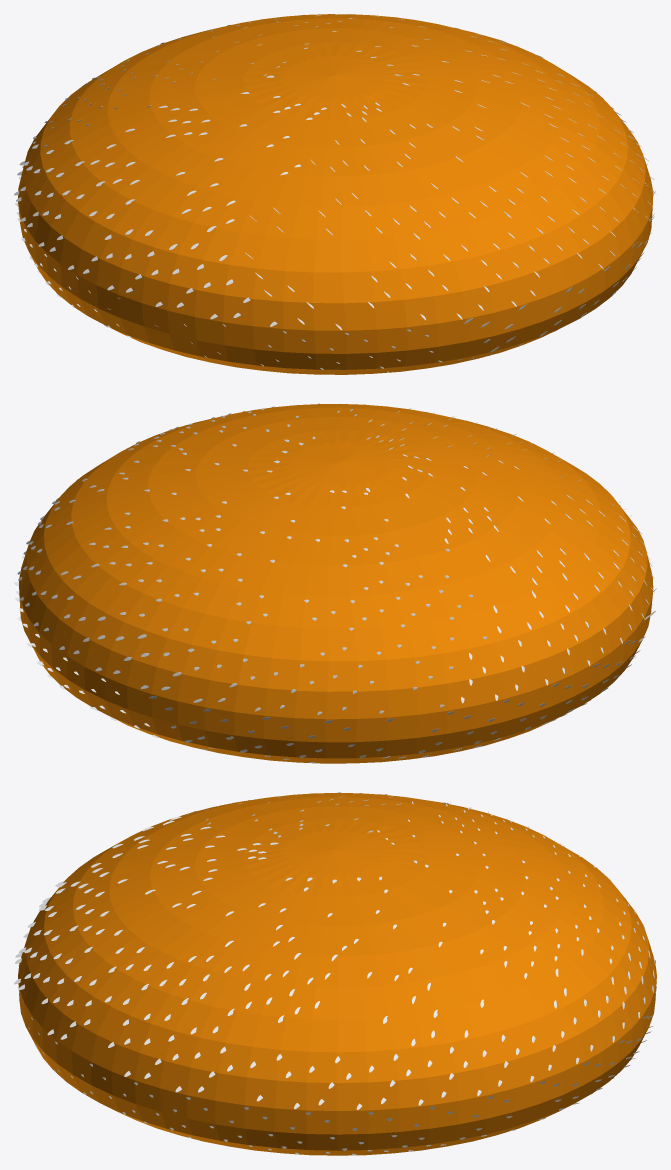
The model's file is susamekmek.fbx.
3 views of the same model, one above another, from view 1: azimuth 30°, elevation 25°; view 2: azimuth 150°, elevation 25°; view 3: azimuth 270°, elevation 25° (orthographic).
Visible parts, largest first — view 1: Cylinder.003; view 2: Cylinder.003; view 3: Cylinder.003.
Boxes of the visible parts, x1,y1,x2,y2 form: Cylinder.003: (18,14,653,374); Cylinder.003: (19,404,653,763); Cylinder.003: (18,793,656,1155).
Size of the model in its own units: 197 by 67.04 by 196.
